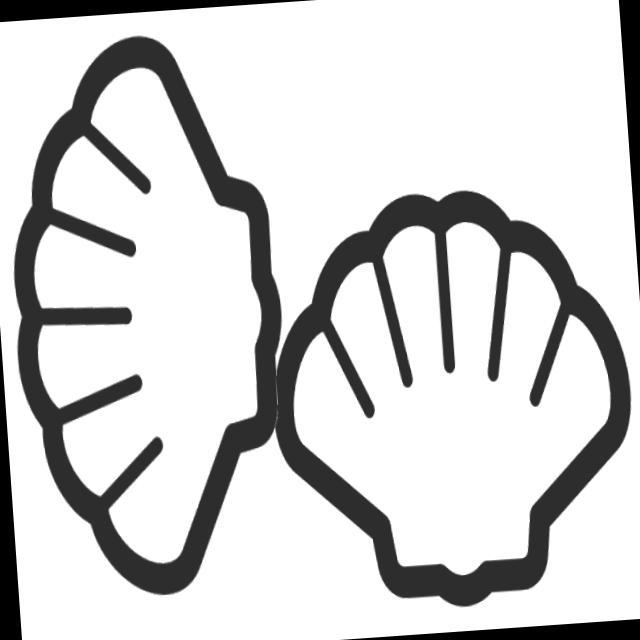shell: (1, 17, 310, 620), (243, 167, 640, 632)
